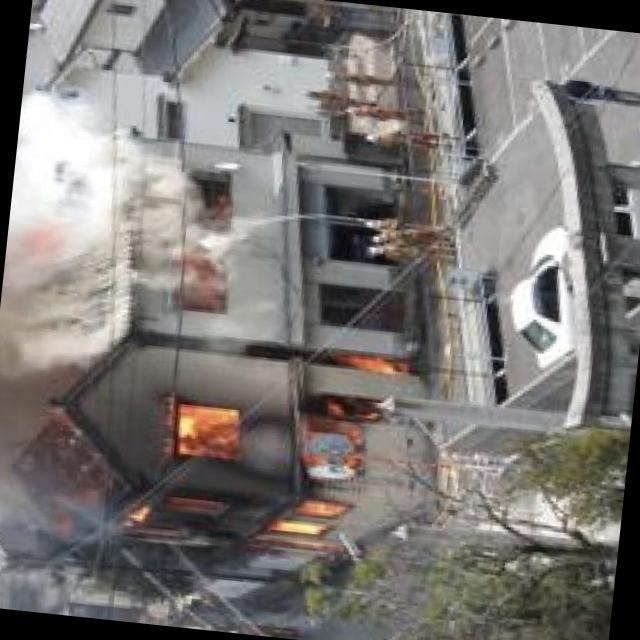Fire: (125, 315, 435, 574)
